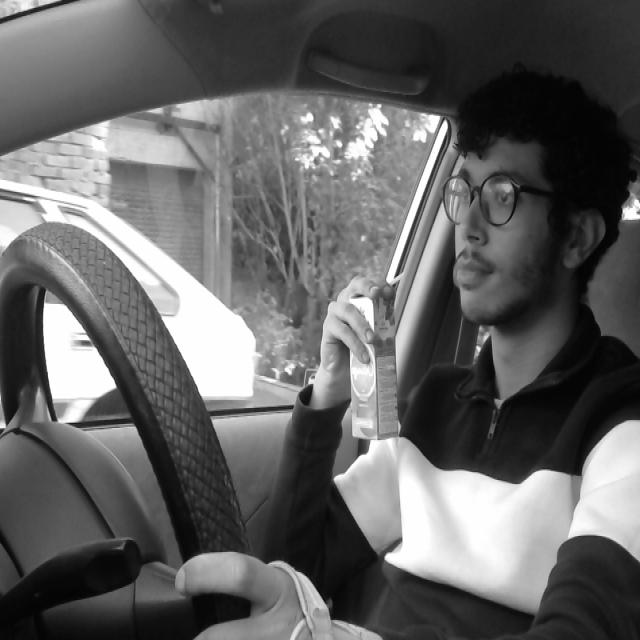drinking: (346, 268, 410, 438)
